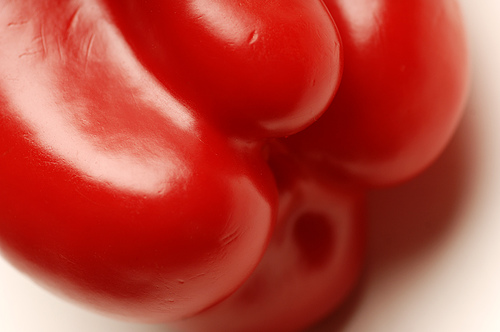capsicum: (0, 0, 467, 331)
